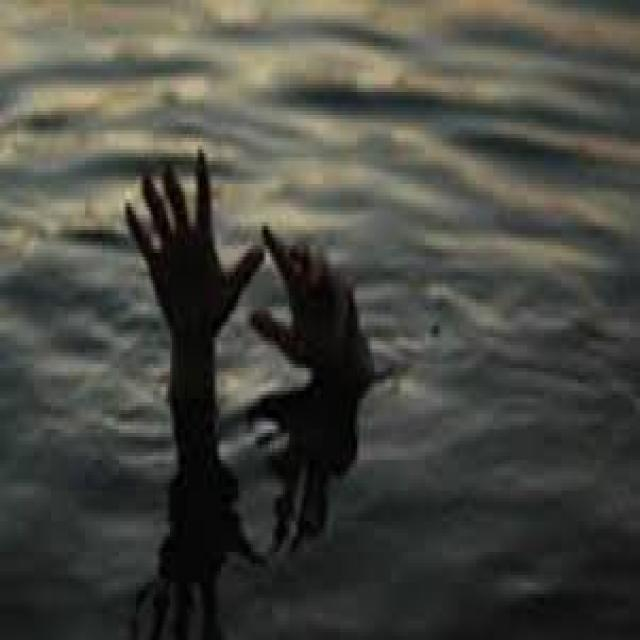Out of Water: (110, 117, 432, 500)
